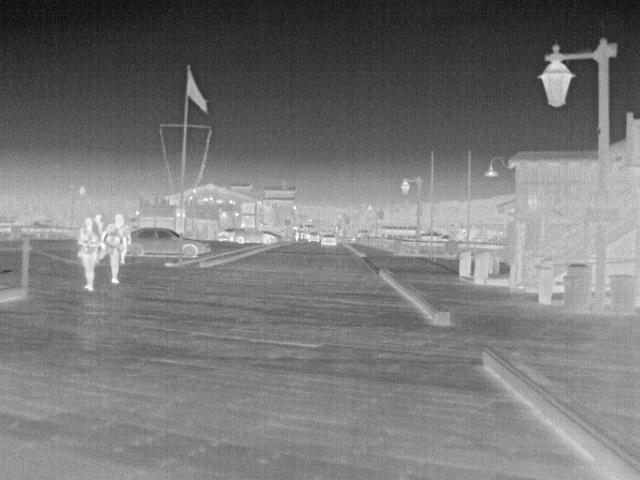car: (125, 227, 209, 261), (227, 228, 277, 246), (216, 228, 240, 241), (319, 234, 336, 250), (305, 229, 323, 242)
person: (78, 218, 102, 292), (106, 213, 125, 283), (92, 211, 106, 246)
